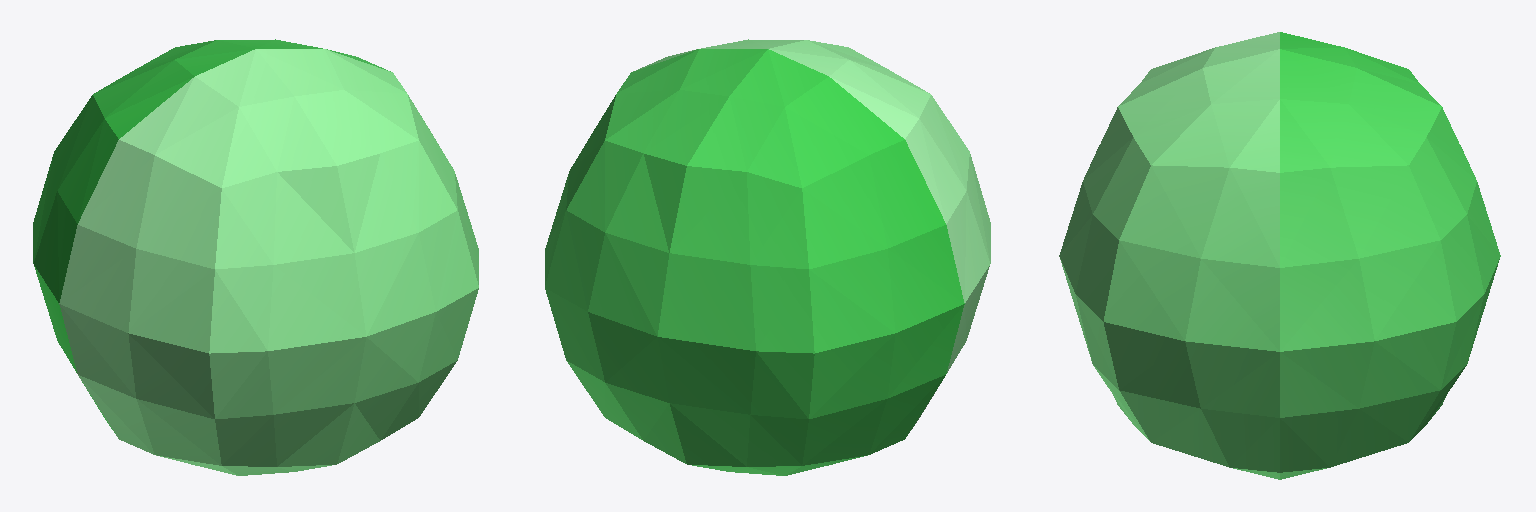
The picture shows the model from 3 angles: view 1: azimuth 30°, elevation 25°; view 2: azimuth 150°, elevation 25°; view 3: azimuth 270°, elevation 25°; orthographic projection.
Parts seen in each view (by area): view 1: 立方体; view 2: 立方体; view 3: 立方体.
Part boxes in pixels (x1,y1,x2,y2): 立方体: (33,39,478,475); 立方体: (545,39,990,475); 立方体: (1059,32,1500,479).
Bounding box in the file's own units: 2.74 × 2.76 × 2.67.
1 materials, 1 textured.